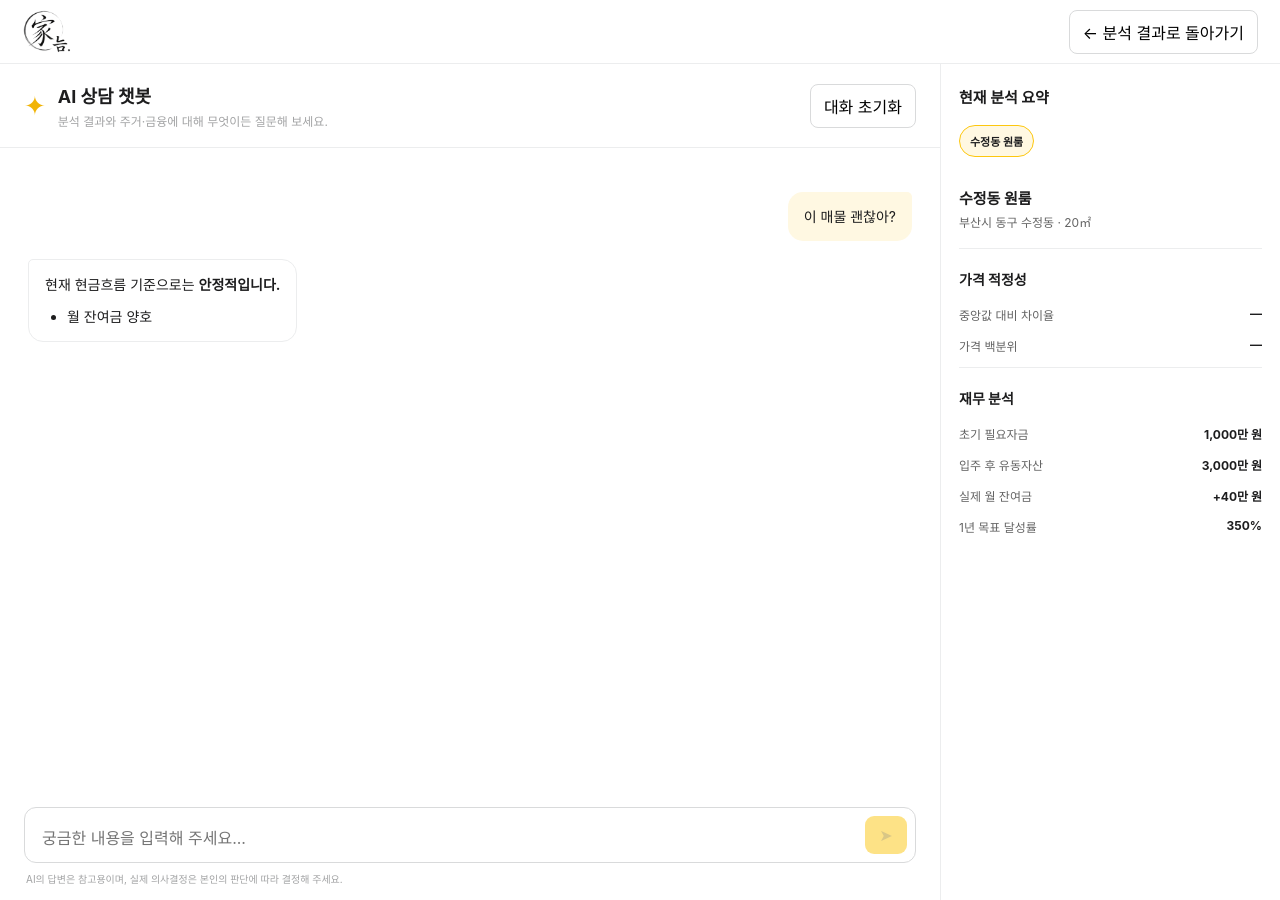
Scenario: ChatPage › 사용자 메시지를 보내고 SSE 답변을 증분 표시한다
In the text box named "메시지": (444, 835) top-left (33, 816), bottom-right (855, 854), type "보증금은 충분해?"
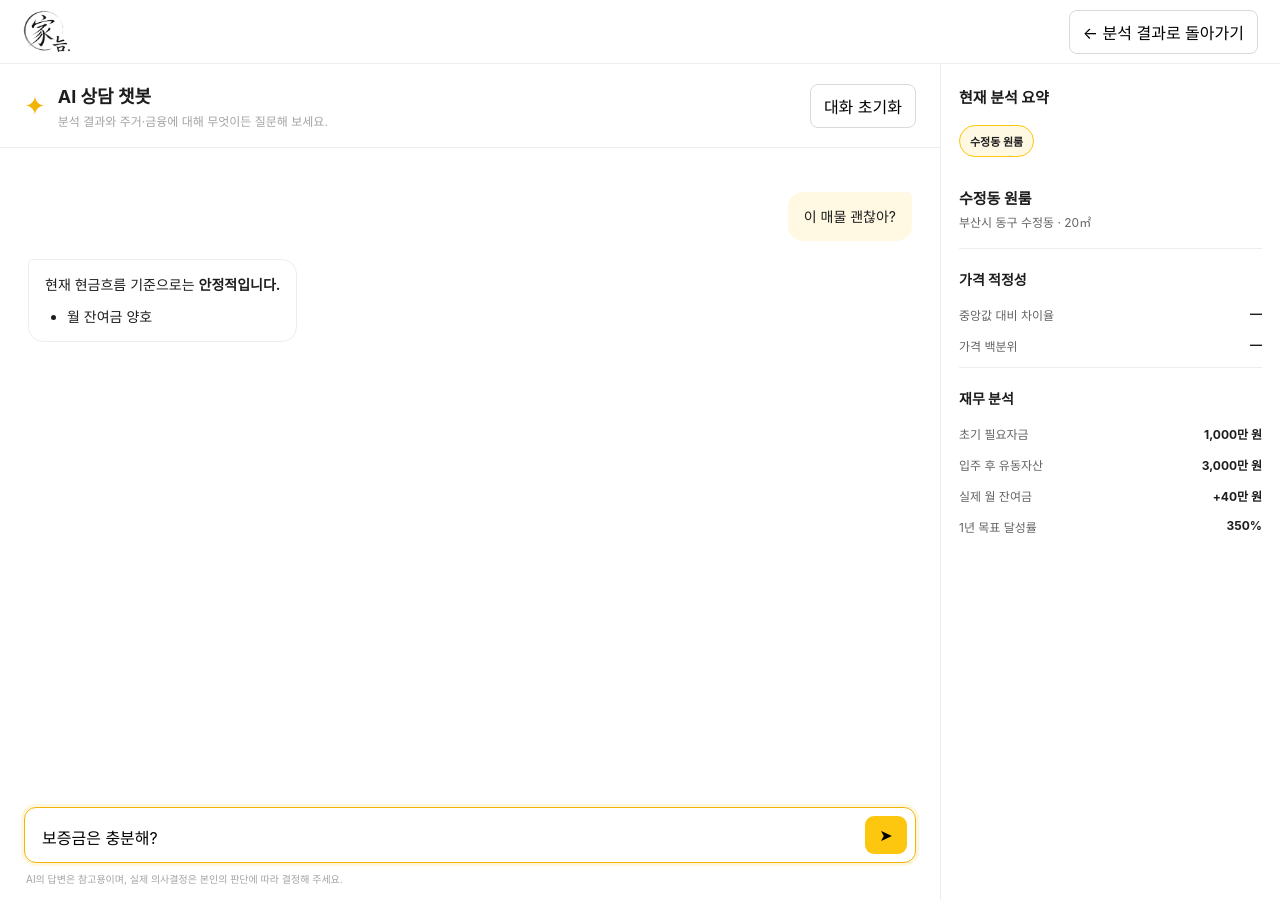
Click the button named "메시지 전송": (886, 835) top-left (865, 816), bottom-right (907, 854)
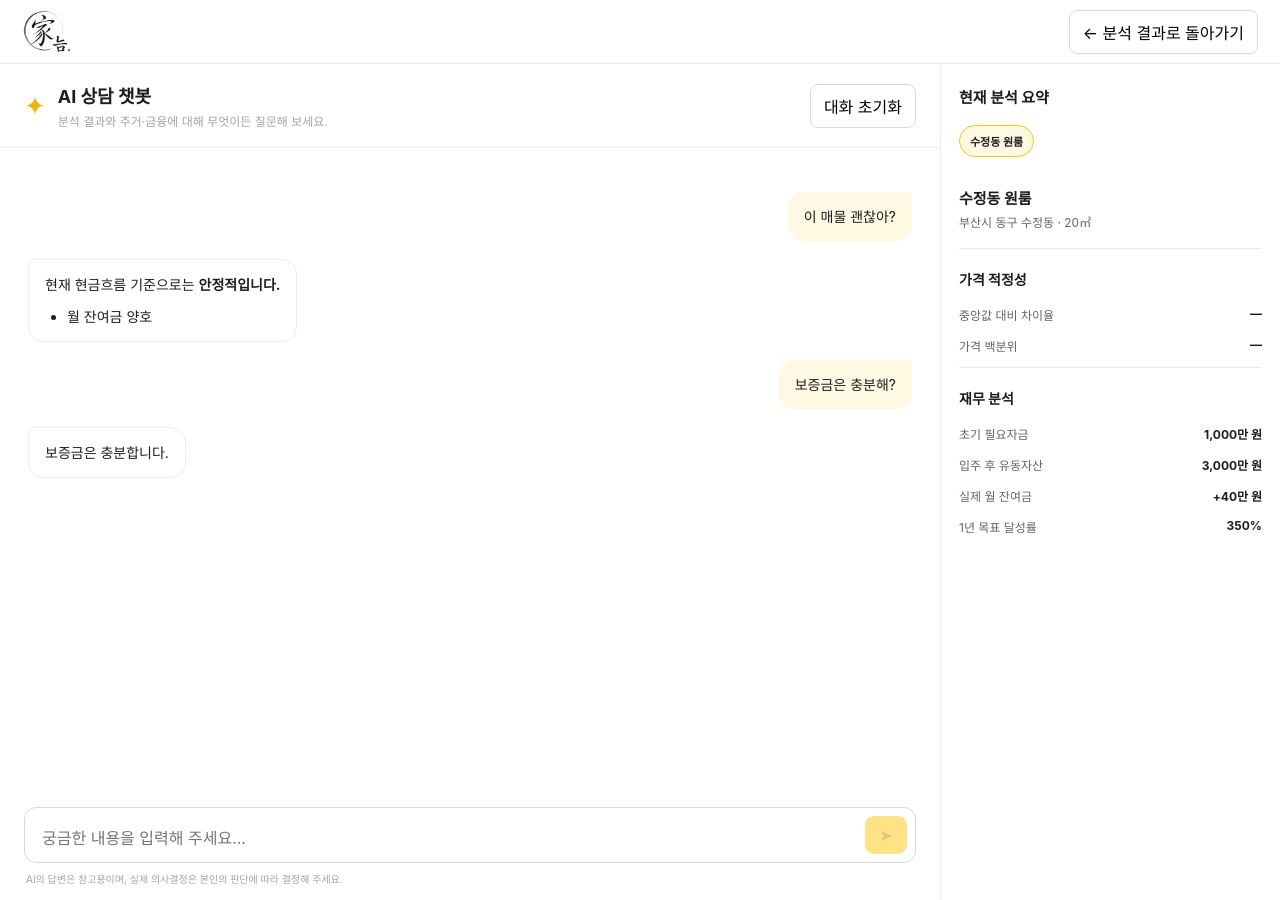
Now the text "보증금은 충분합니다." is shown, box top-left (45, 441), bottom-right (169, 464)
Now the text "보증금은 충분해?" is shown, box top-left (779, 360), bottom-right (912, 409)
